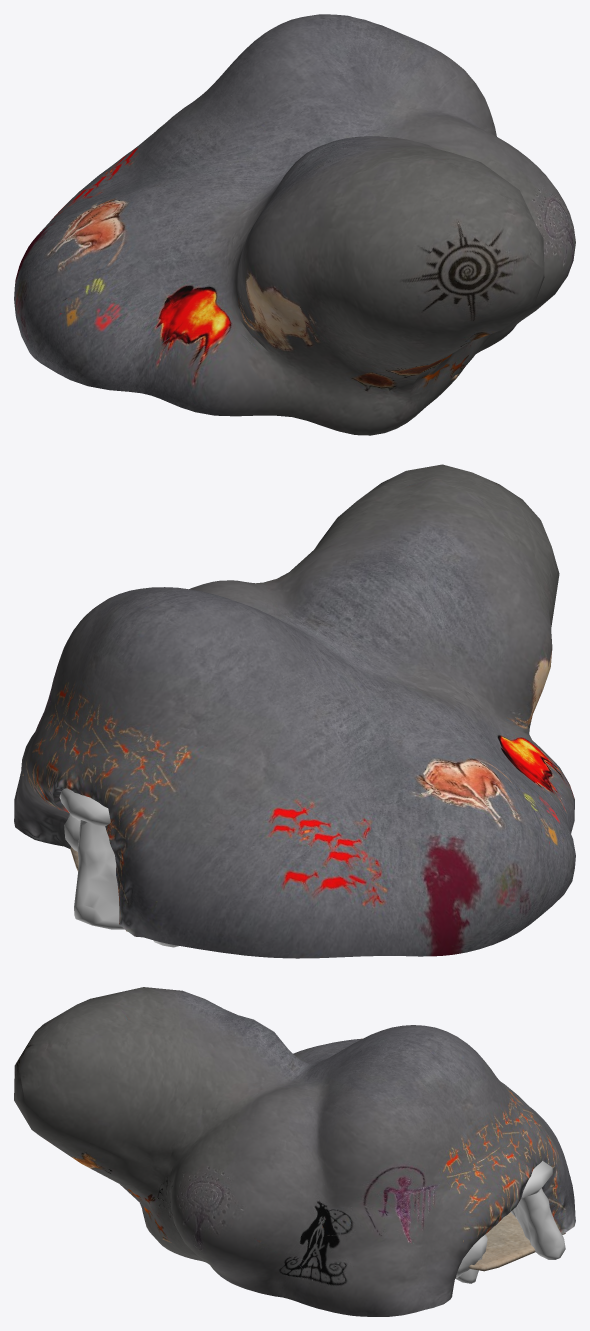
Rendered from Showcase Cave Final.fbx.
3 views of the same model, one above another, from view 1: azimuth 30°, elevation 25°; view 2: azimuth 150°, elevation 25°; view 3: azimuth 270°, elevation 25° (orthographic). The views are drawn at different scales.
Visible parts, largest first — view 1: Showcase Cave; view 2: Showcase Cave, Showcase Entery; view 3: Showcase Cave, Showcase Entery, Showcase Floor.
Boxes of the visible parts, bbox=[...] form: Showcase Cave: bbox=[14, 14, 575, 435]; Showcase Cave: bbox=[14, 464, 575, 958]; Showcase Entery: bbox=[59, 788, 178, 947]; Showcase Cave: bbox=[14, 987, 575, 1316]; Showcase Entery: bbox=[455, 1161, 565, 1283]; Showcase Floor: bbox=[162, 1212, 565, 1271].
Size of the model in its own units: 1165 by 645 by 1357.
